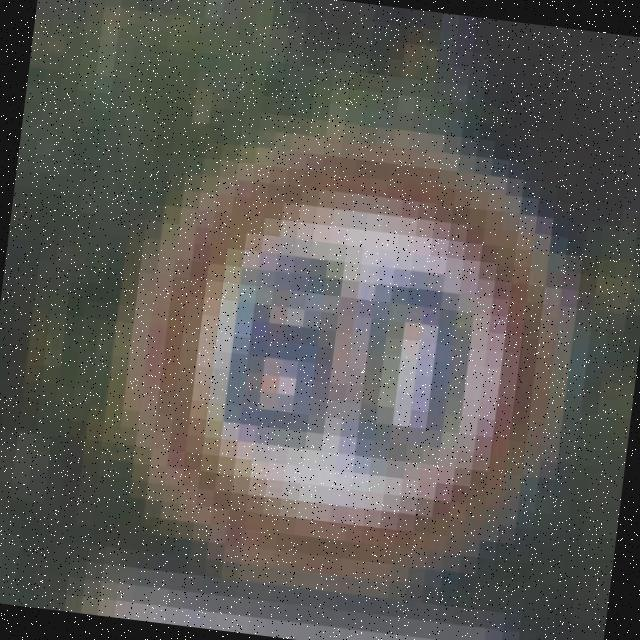Ograniczenie predkosci do 80: (106, 105, 597, 607)
